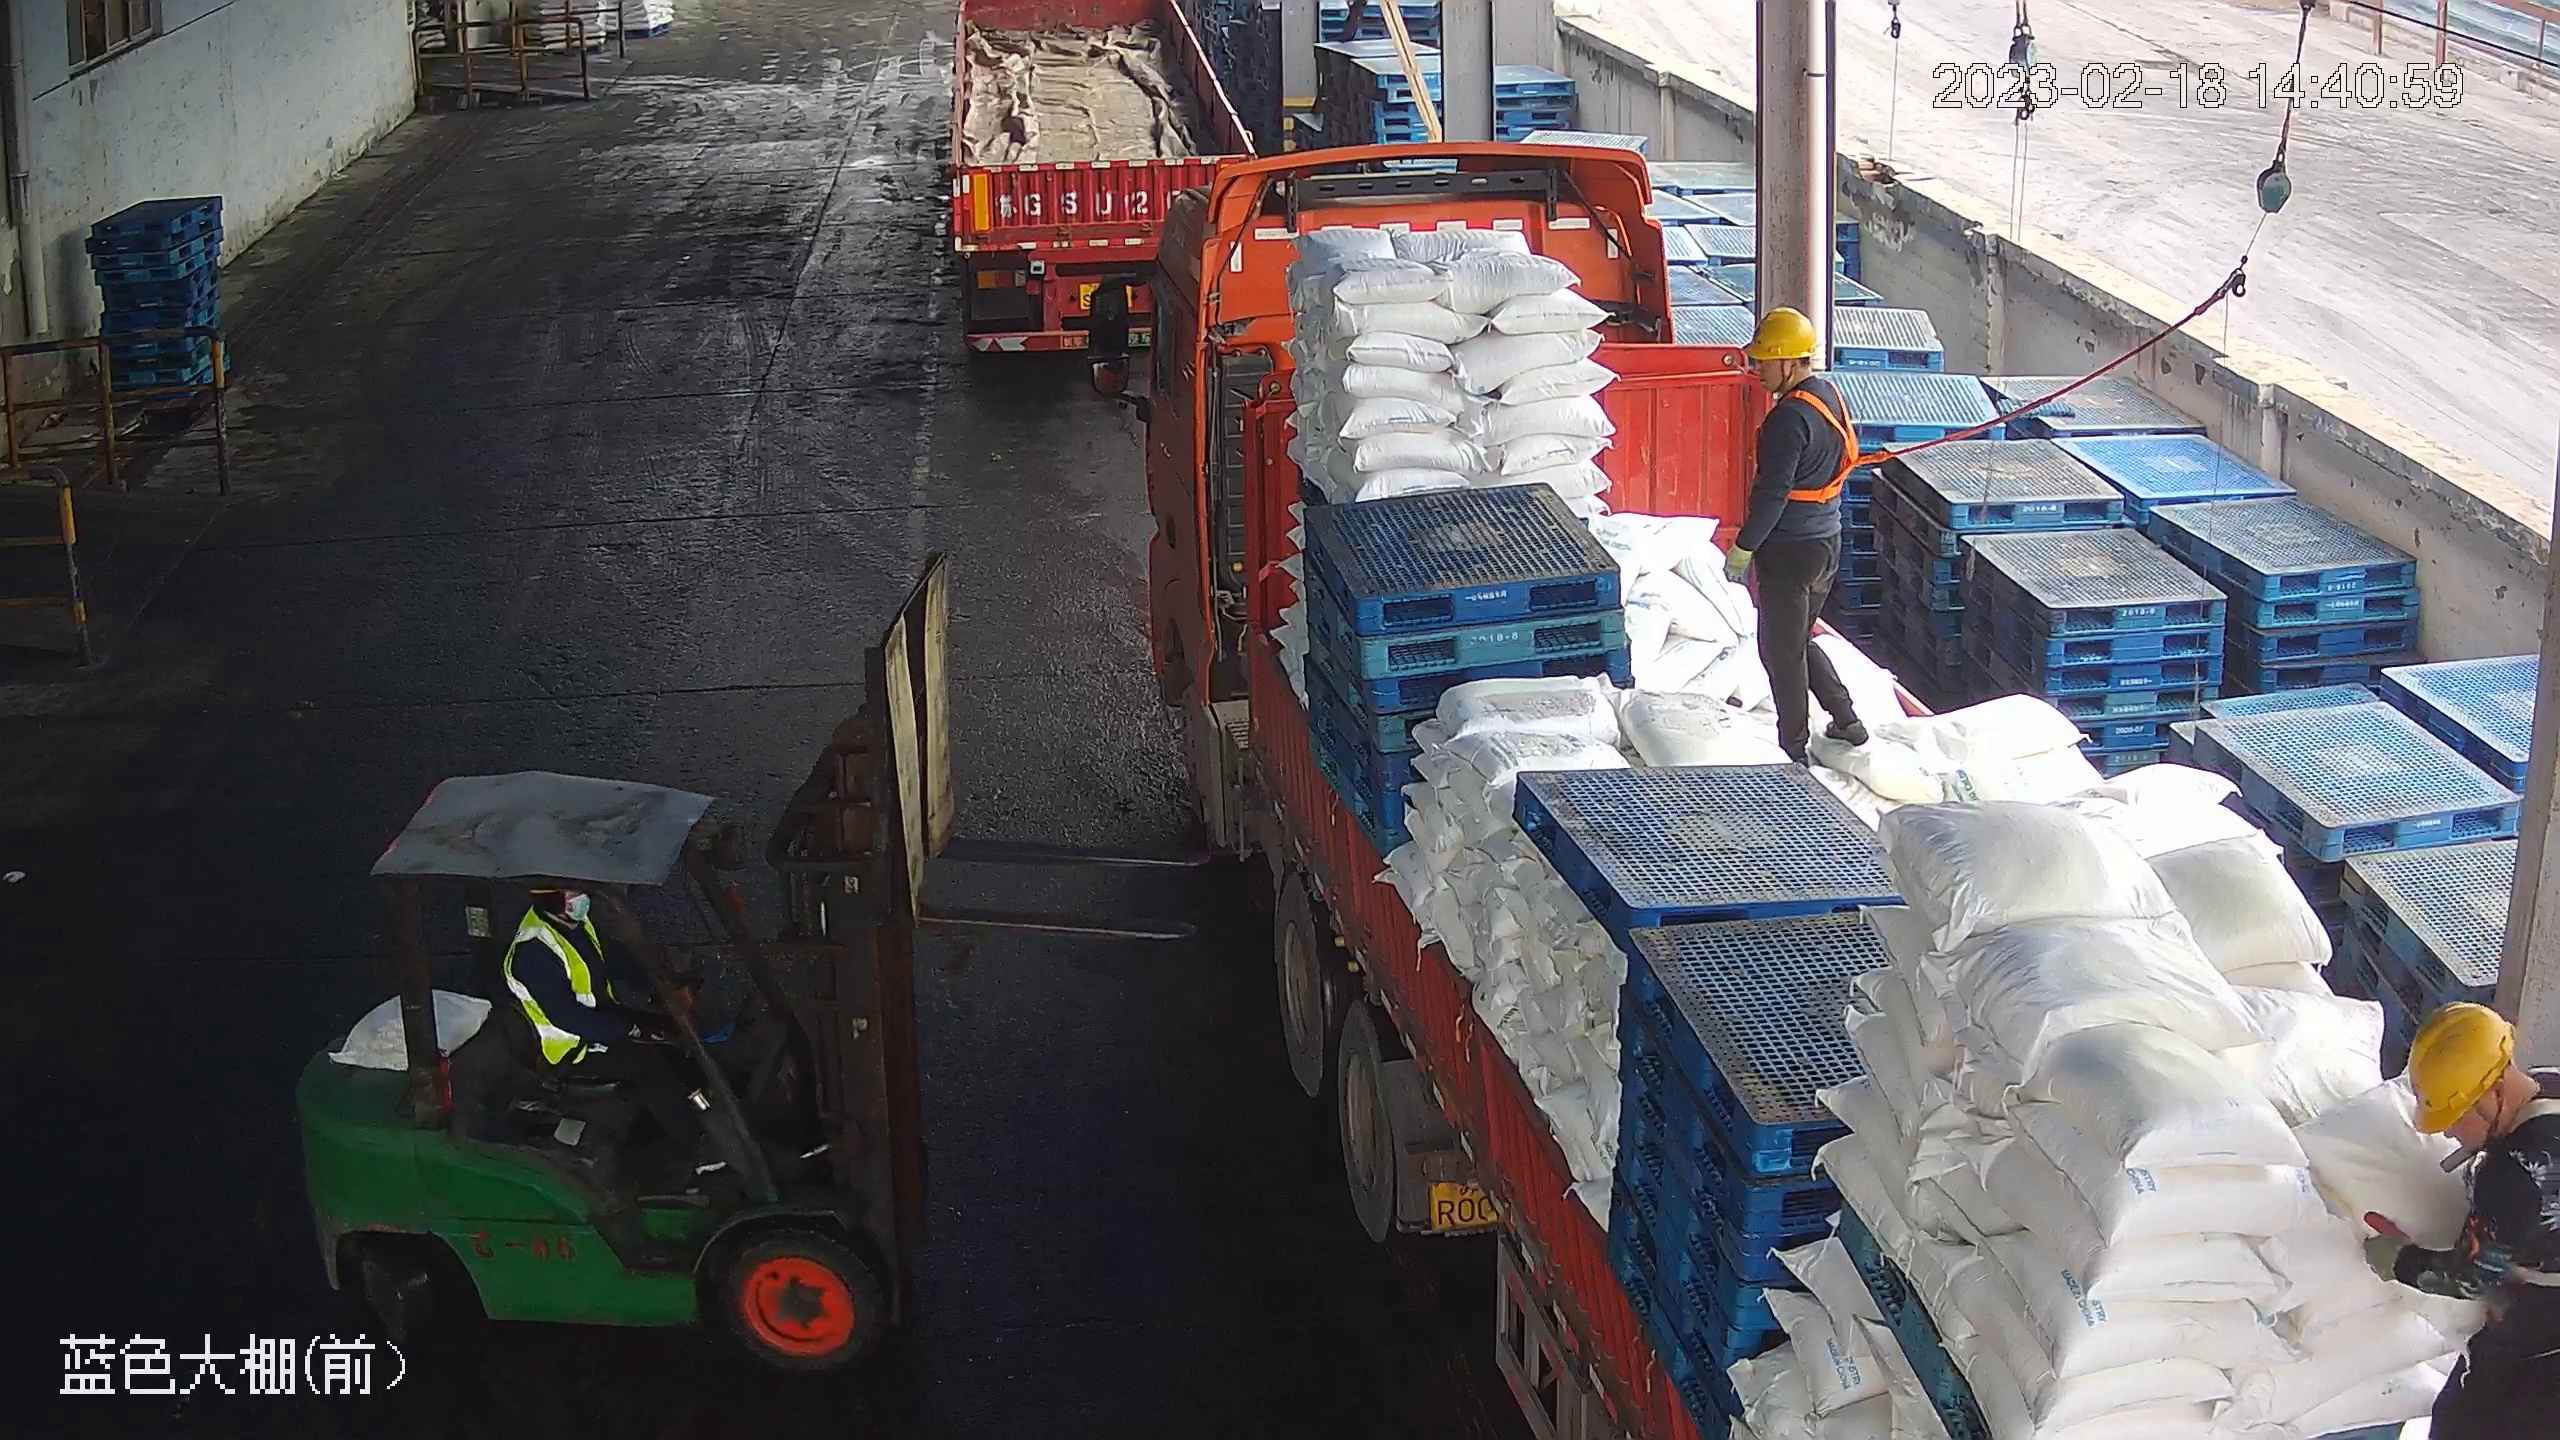belt: (2471, 1095, 2560, 1294), (1773, 382, 1879, 504)
head: (2404, 1002, 2560, 1233), (1735, 304, 1858, 442)
helmet: (2401, 999, 2521, 1135), (1742, 303, 1821, 362)
people: (2358, 999, 2559, 1438), (1714, 305, 1870, 765), (504, 877, 743, 1167)
truck: (1082, 156, 2551, 1440), (927, 9, 1269, 362)
